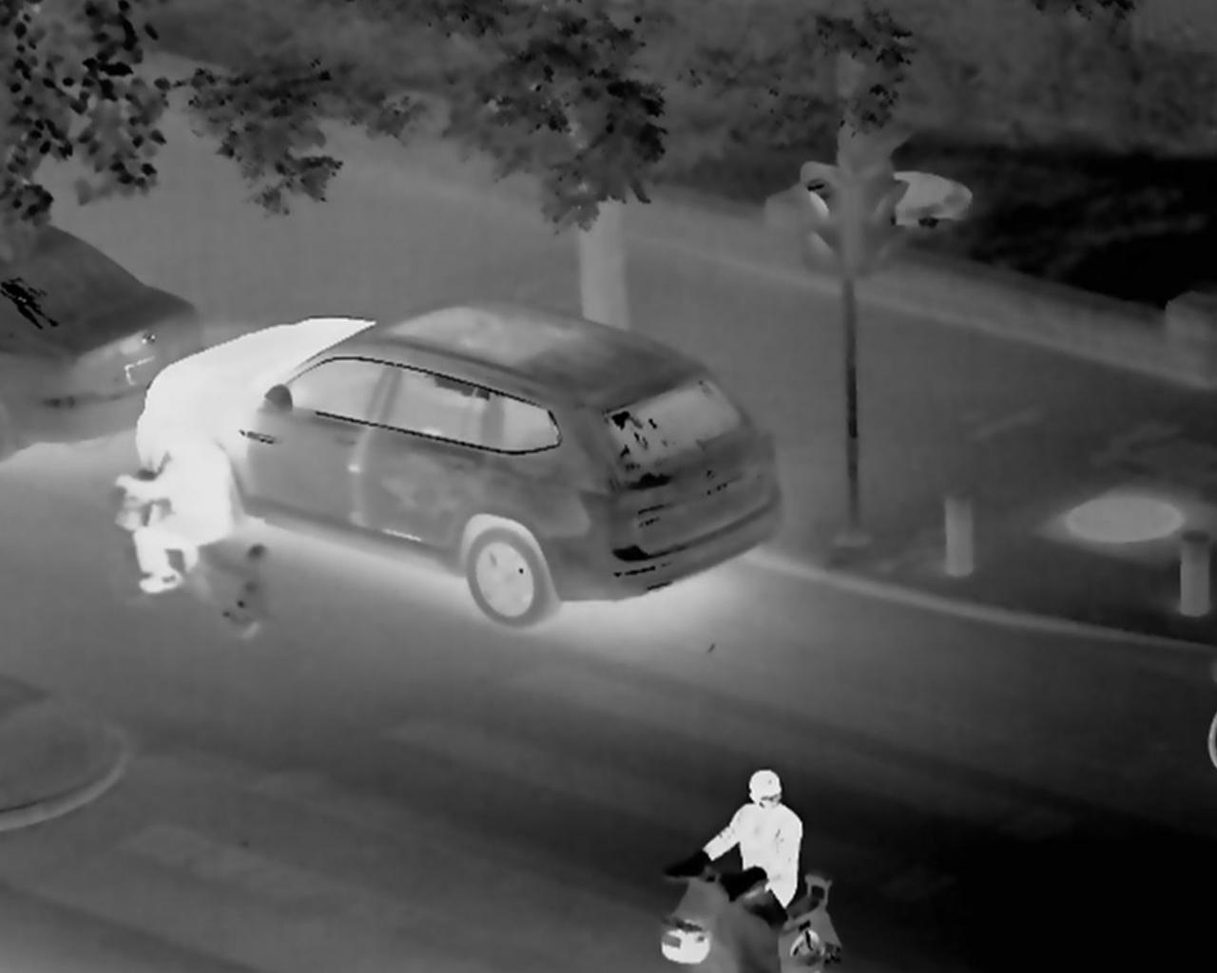person: (92, 398, 262, 563), (686, 772, 839, 926)
